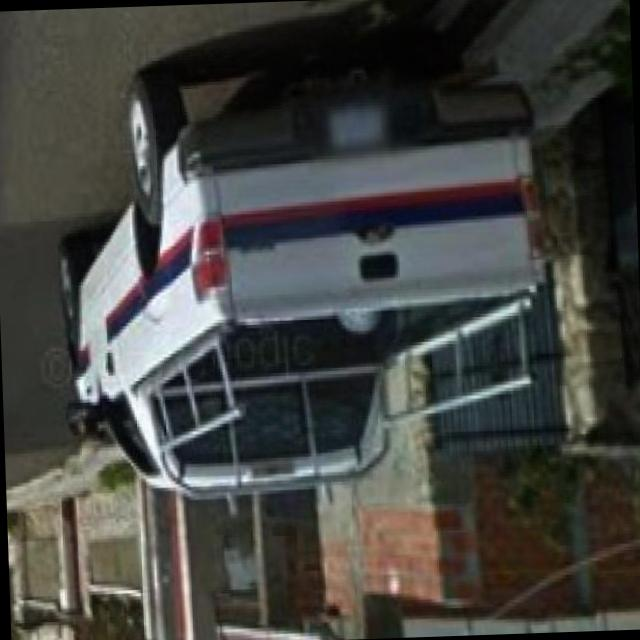car: (39, 27, 546, 520)
